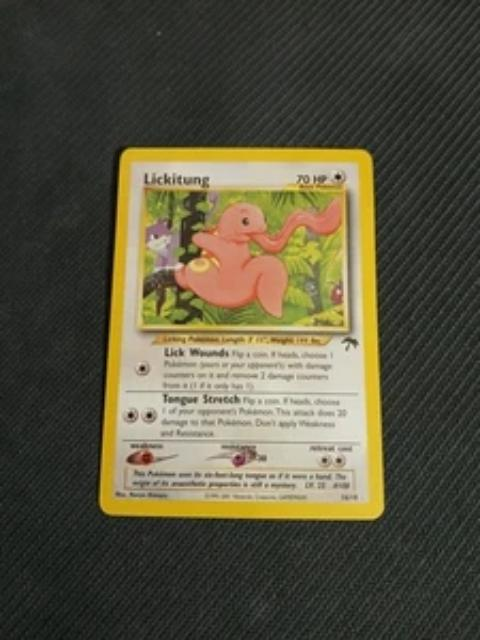Card: (90, 140, 391, 526)
Name: (139, 168, 216, 190)
